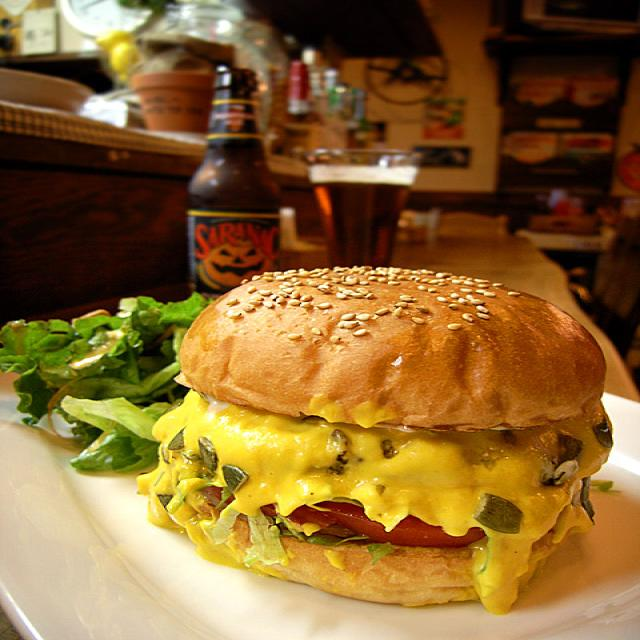汉堡快餐: (155, 248, 621, 612)
